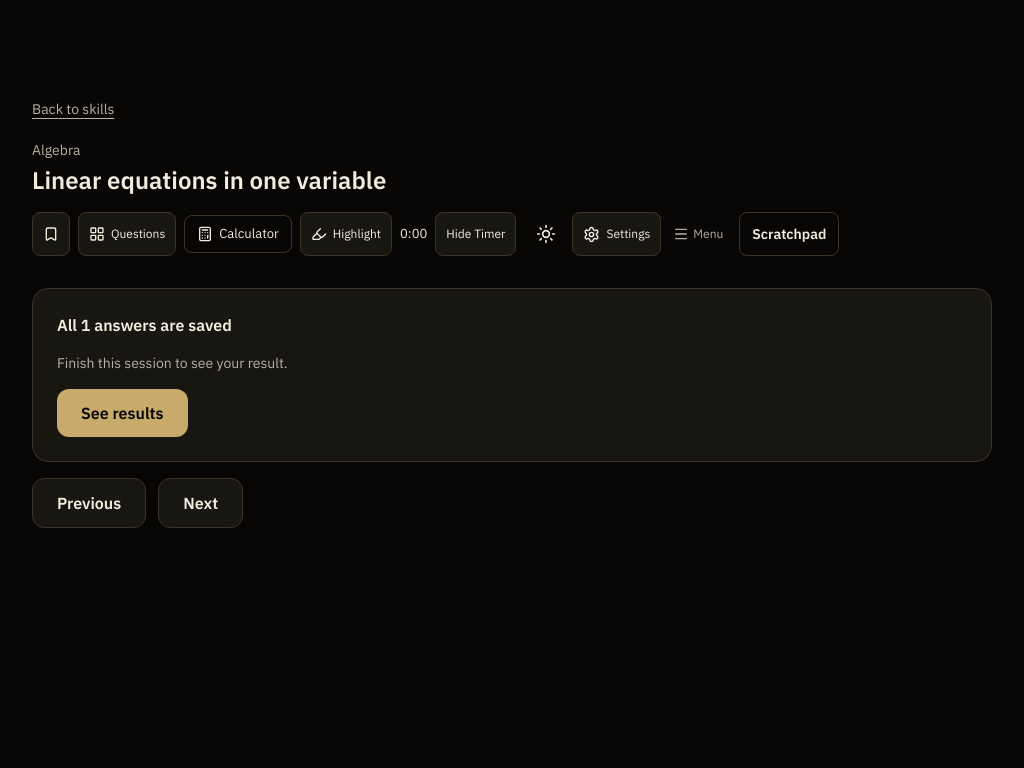
canonical student practice › resumes without allocation and completes a session whose final answer was already saved
Expected: the heading "All 1 answers are saved" is shown, left=57, top=315, right=232, bottom=335
What coordinates should you click on to do the following:
click the button "See results"
I would click on:
 (122, 413)
Its box is left=57, top=389, right=188, bottom=437.
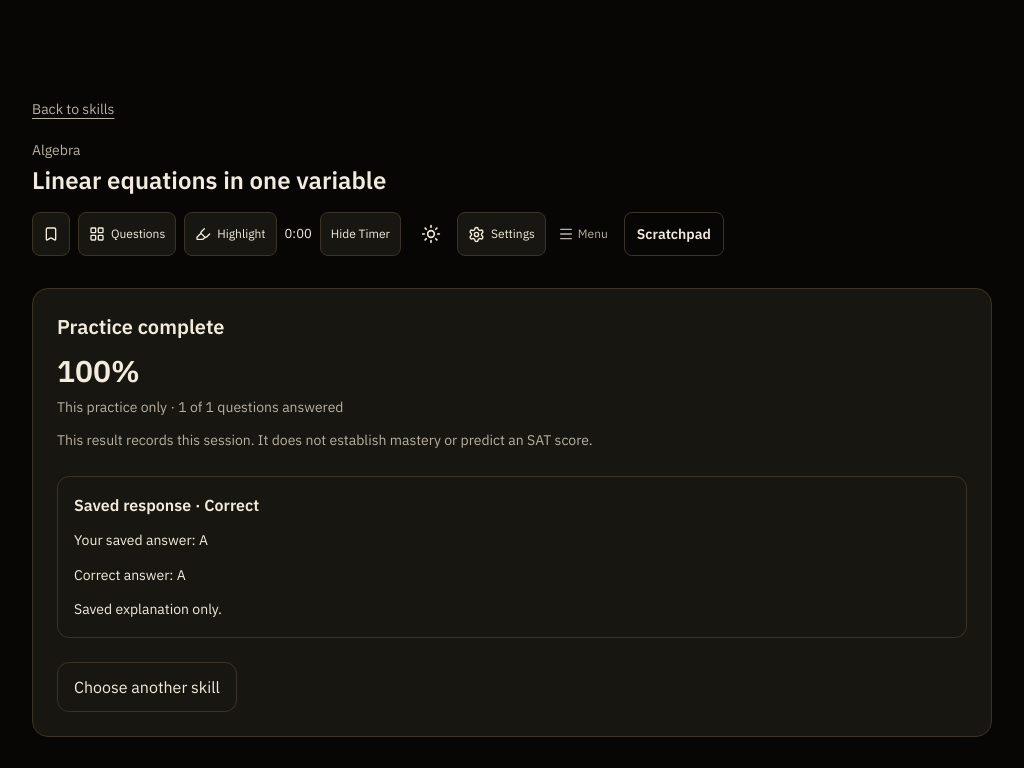
Expected: the heading "Practice complete" is shown, left=57, top=313, right=224, bottom=340
